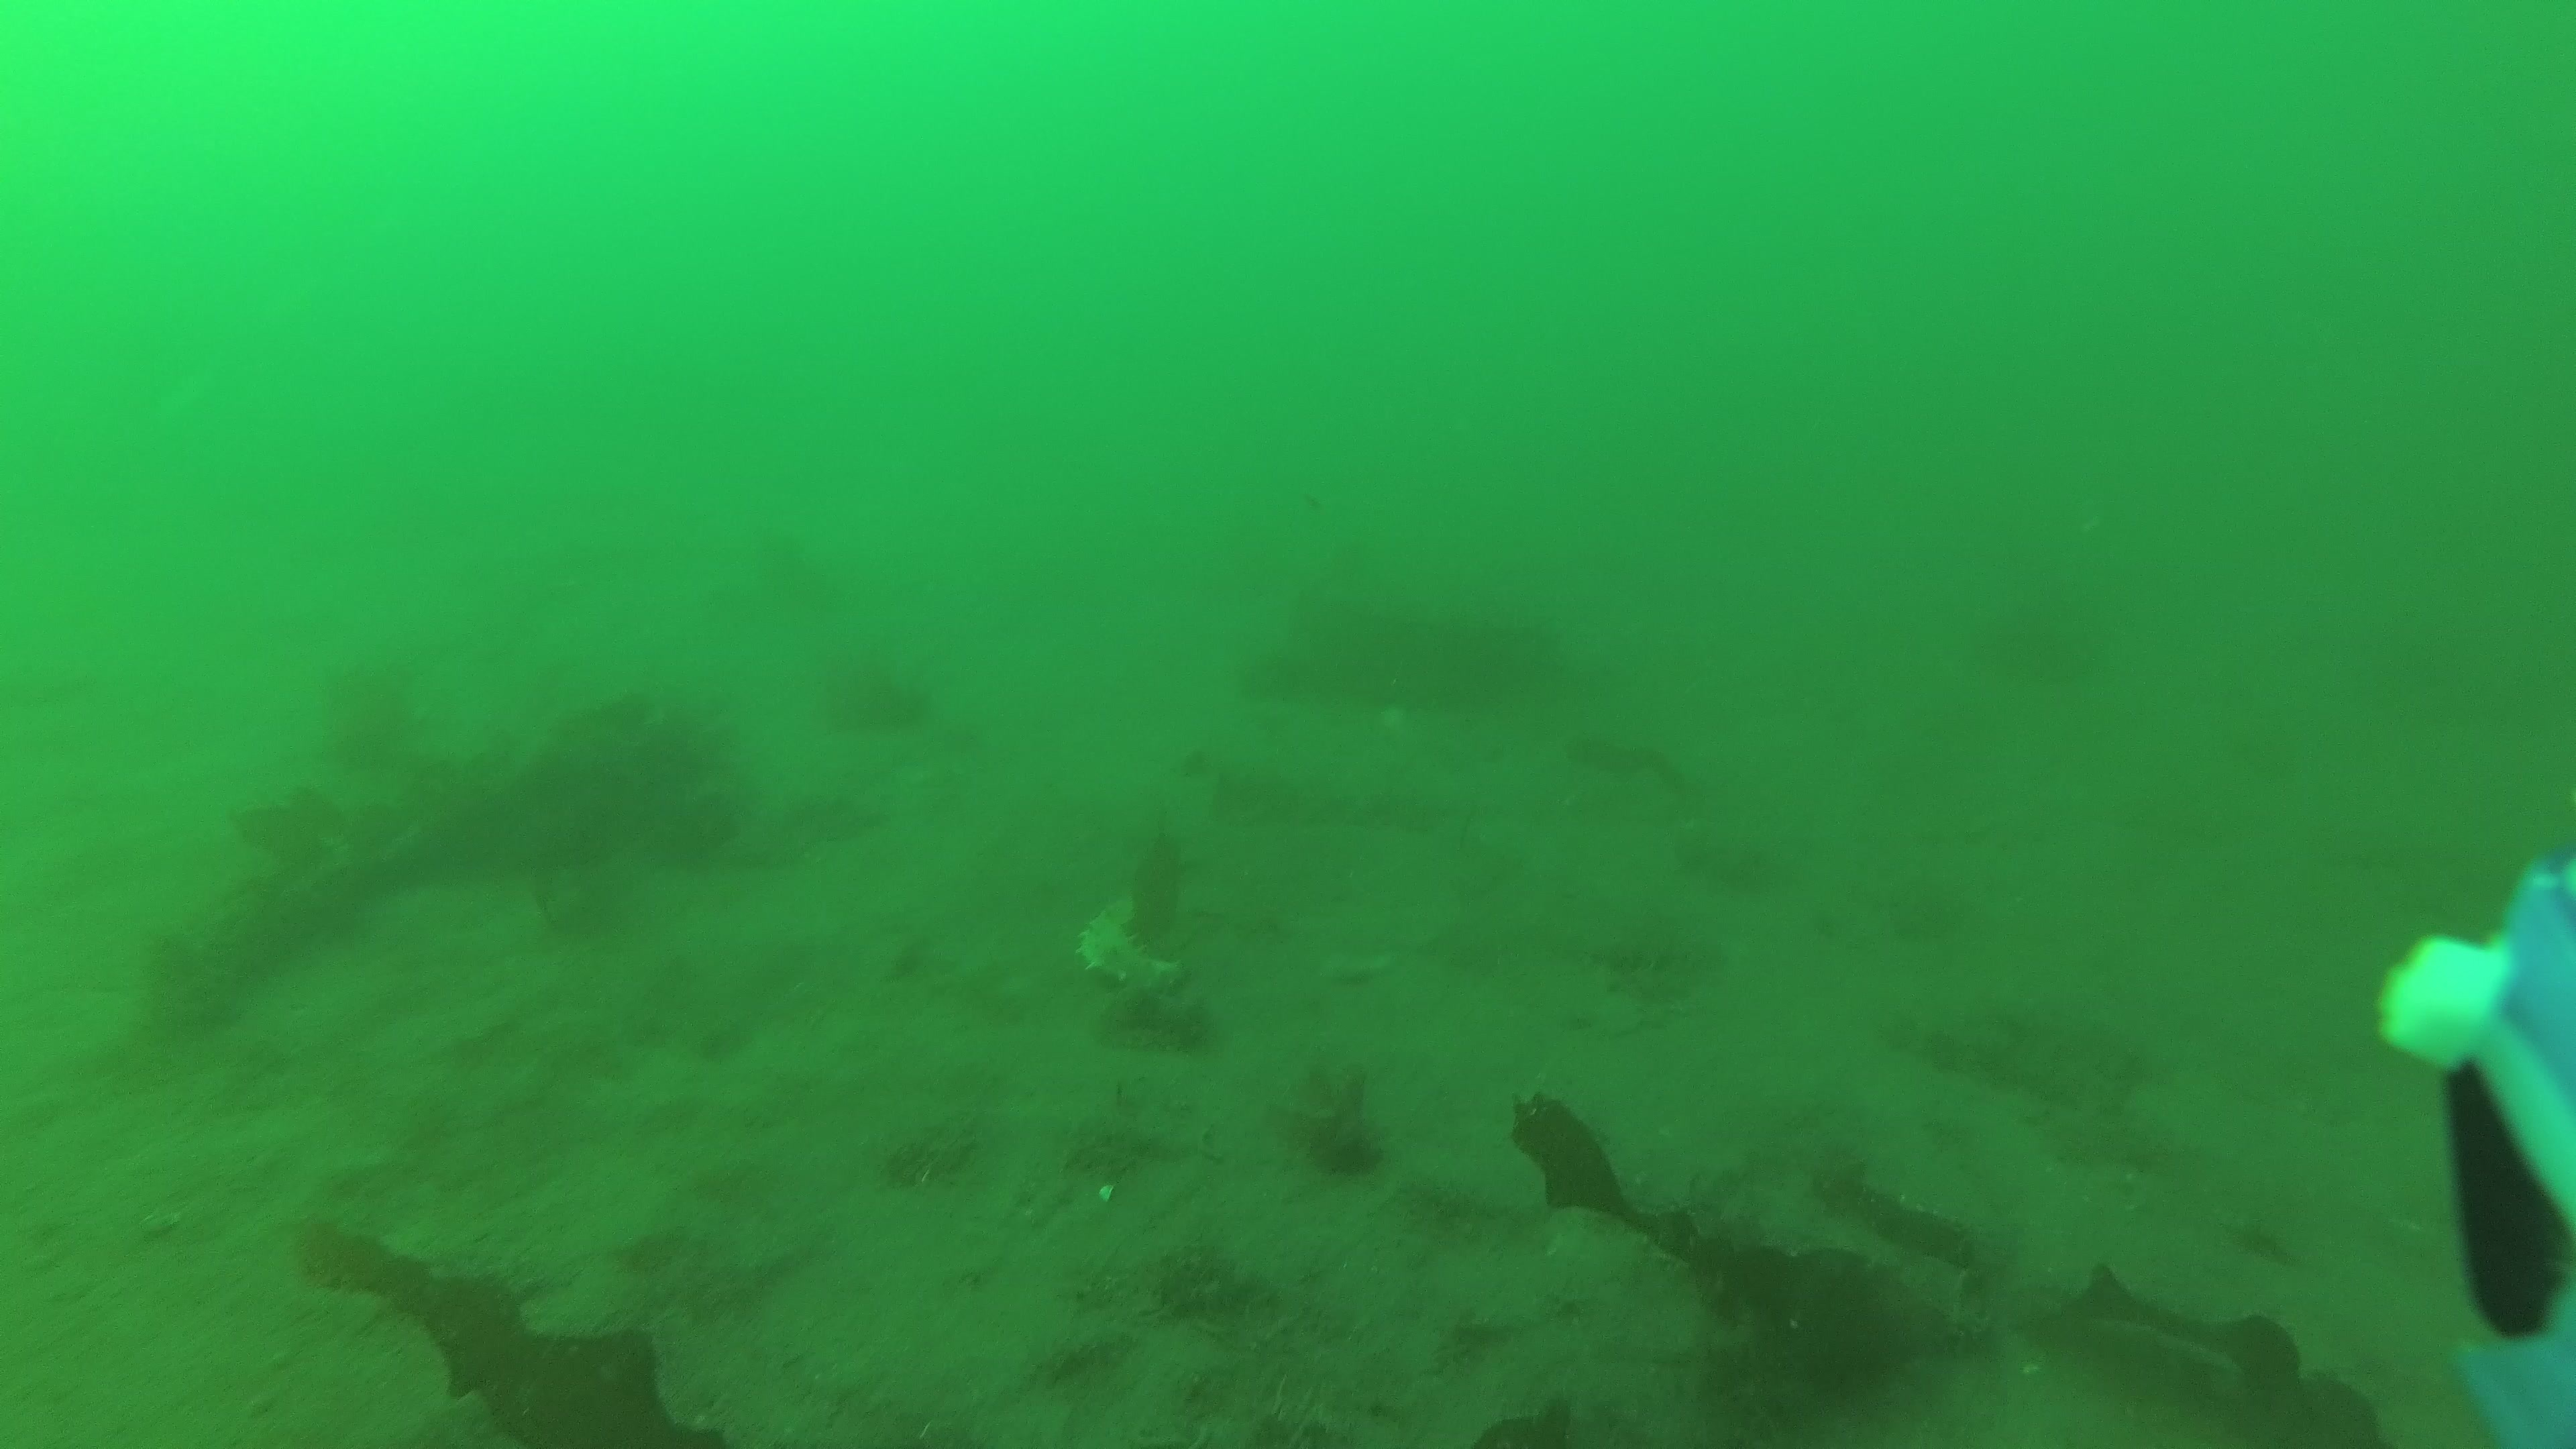holothurian: (1074, 892, 1191, 998)
